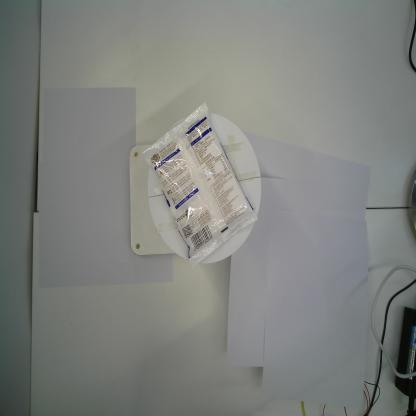Seasoner: (140, 97, 259, 270)
